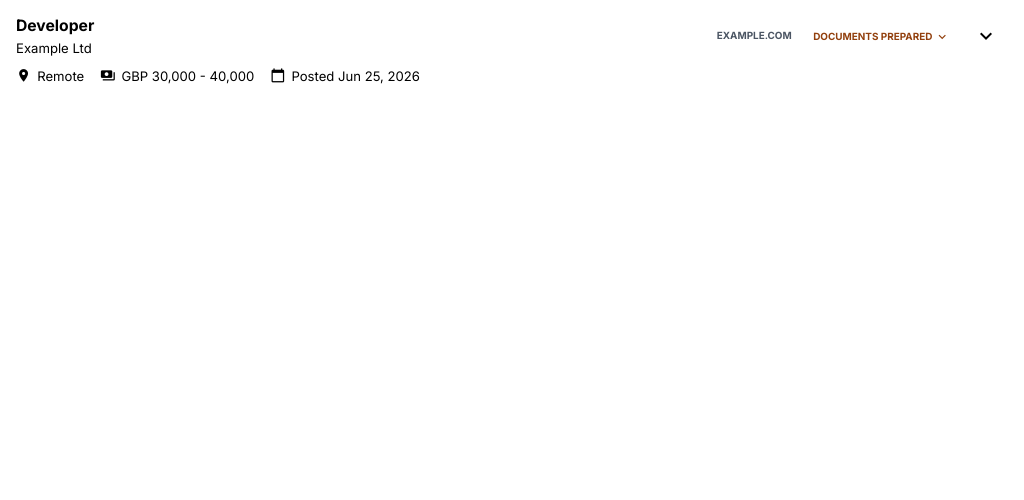
Test: JobCardComponent › shows the success panel and four download buttons after generation
The image size is (1024, 500).
Click the button "Developer Example Ltd" at coordinates (55, 25), box [16,14,694,58]
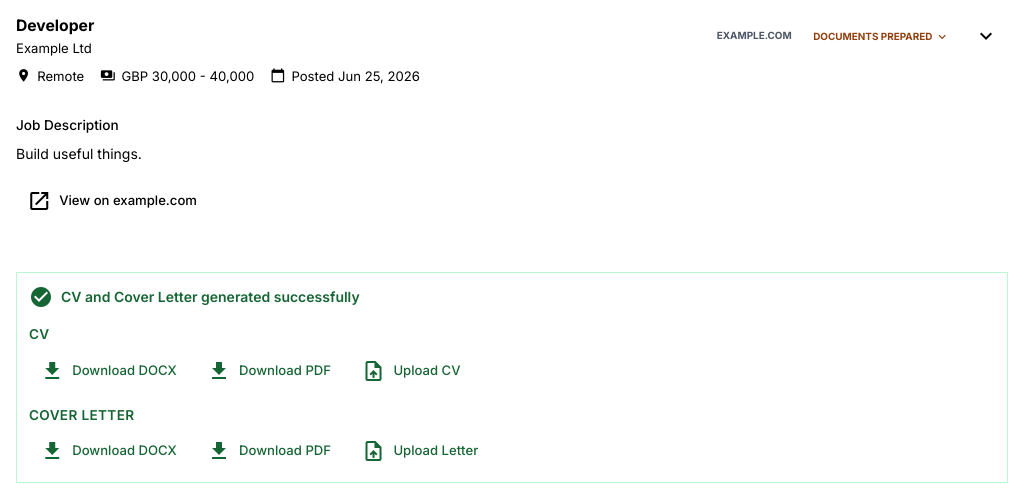
Check: the text "CV and Cover Letter generated successfully" is shown, box [61,287,360,307]
